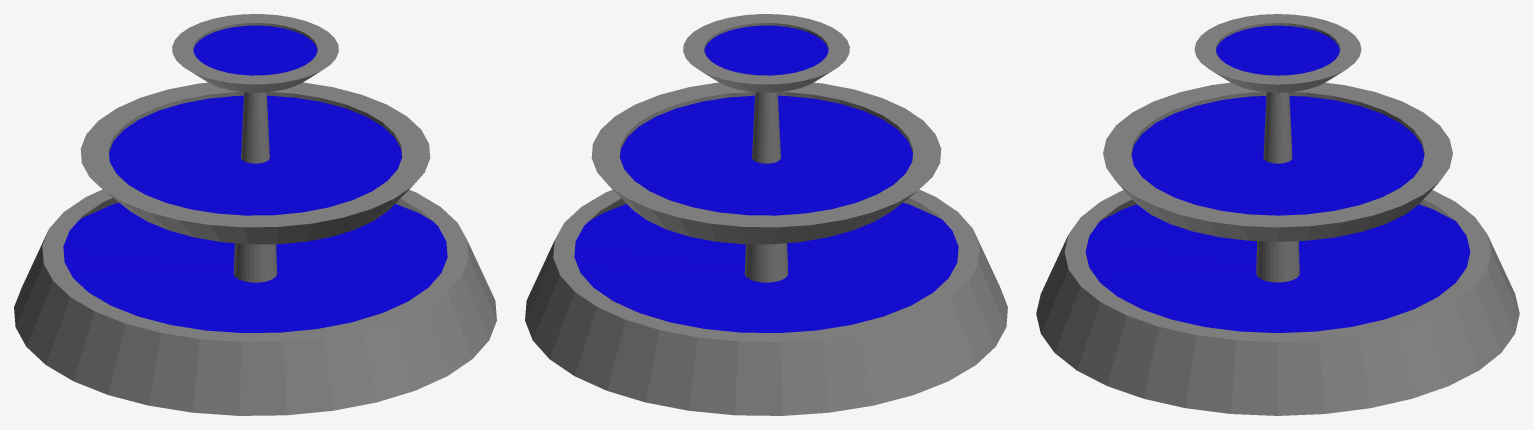
File: Fountain.fbx
3 renders of one model, left to right at view 1: azimuth 30°, elevation 25°; view 2: azimuth 150°, elevation 25°; view 3: azimuth 270°, elevation 25°, orthographic.
Parts seen in each view (by area): view 1: Cylinder; view 2: Cylinder; view 3: Cylinder.
Boxes of the visible parts, x1,y1,x2,y2 form: Cylinder: [14, 14, 496, 415]; Cylinder: [525, 14, 1007, 415]; Cylinder: [1036, 14, 1519, 415].
Size of the model in its own units: 200 by 121 by 200.
